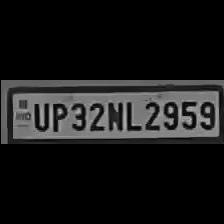2: (85, 98, 105, 132), (140, 98, 160, 132)
3: (66, 98, 86, 132)
5: (178, 97, 196, 130)
9: (158, 98, 178, 130), (196, 98, 216, 130)
L: (122, 98, 140, 132)
N: (104, 98, 124, 132)
P: (49, 99, 67, 131)
U: (28, 99, 48, 131)
